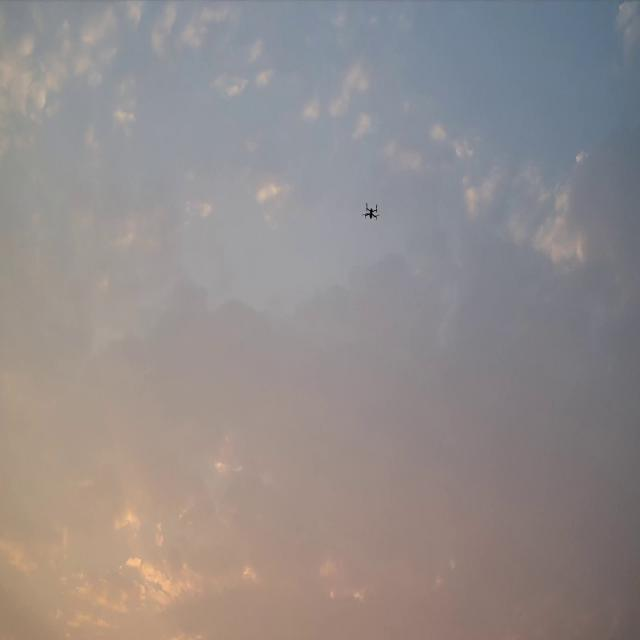UAV: (361, 202, 380, 220)
